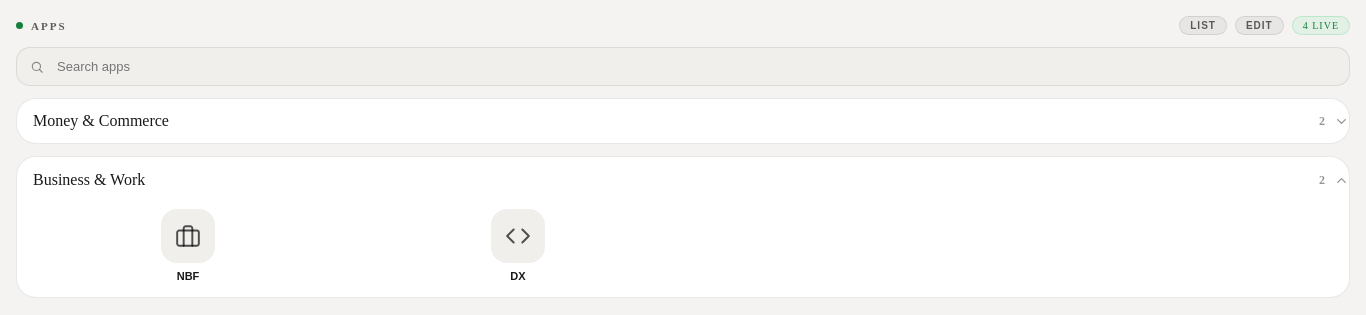
Test case: search overrides the state › goes back to the remembered state when the query is cleared
Type "assets" into the field with placeholder "Search apps" at (683, 66), box [16,47,1350,86]
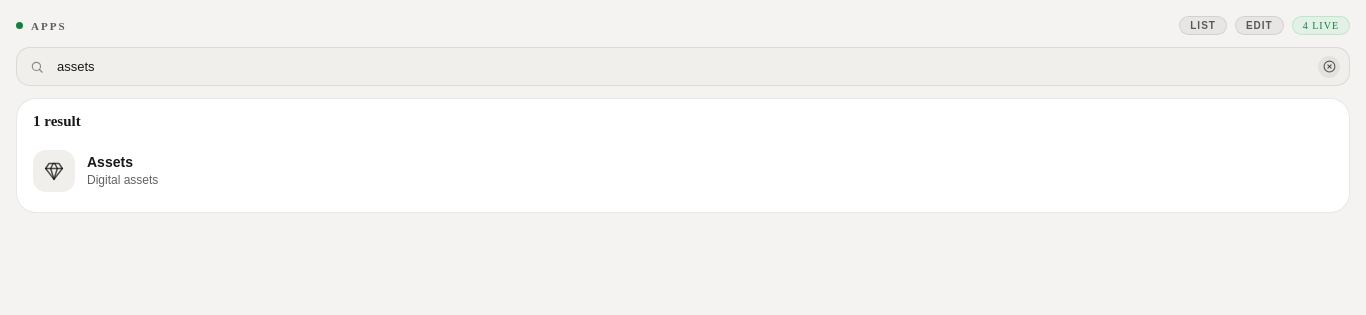
Result: the text "Assets" is shown at [87,154,133,170]
Clear the field with placeholder "Search apps" at (683, 66), box [16,47,1350,86]
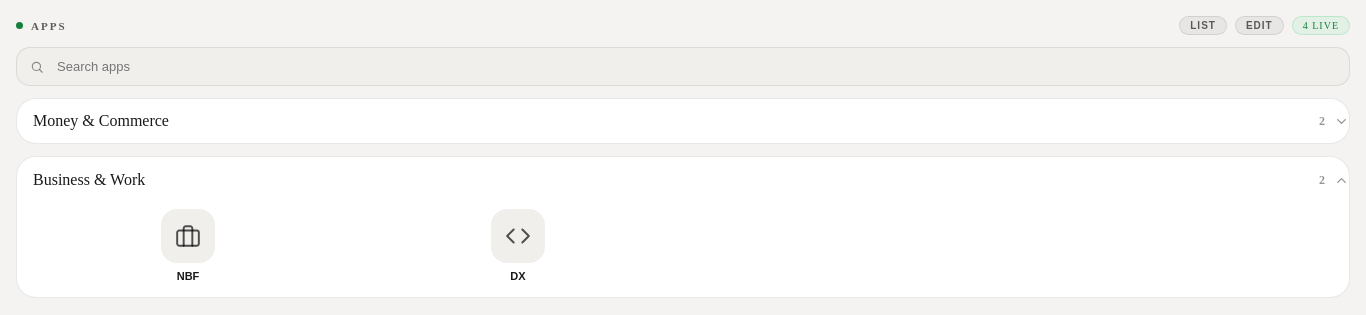
Result: the button "Assets" is gone
